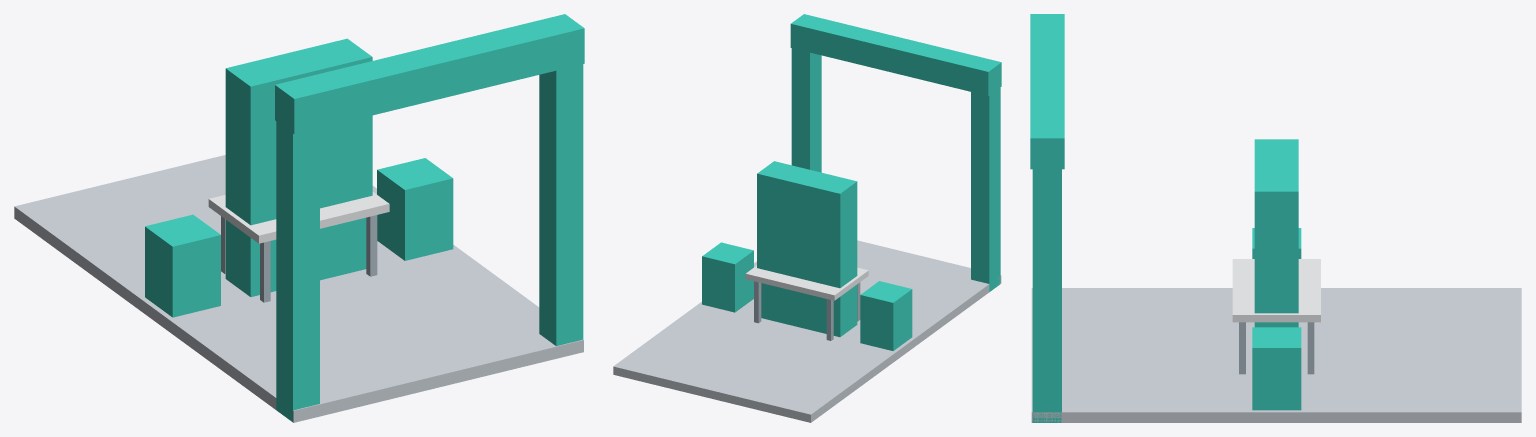
The picture shows the model from 3 angles, left to right: view 1: azimuth 30°, elevation 25°; view 2: azimuth 150°, elevation 25°; view 3: azimuth 270°, elevation 25°; orthographic projection. The views are drawn at different scales.
Visible parts, largest first — view 1: Exhibition Booth Concept; view 2: Exhibition Booth Concept; view 3: Exhibition Booth Concept.
Boxes of the visible parts, box(x1,y1,x2,y2) form: Exhibition Booth Concept: box(14, 14, 584, 422); Exhibition Booth Concept: box(613, 14, 1001, 422); Exhibition Booth Concept: box(1030, 14, 1521, 422).
Size of the model in its own units: 3 by 3.2 by 5.02.
